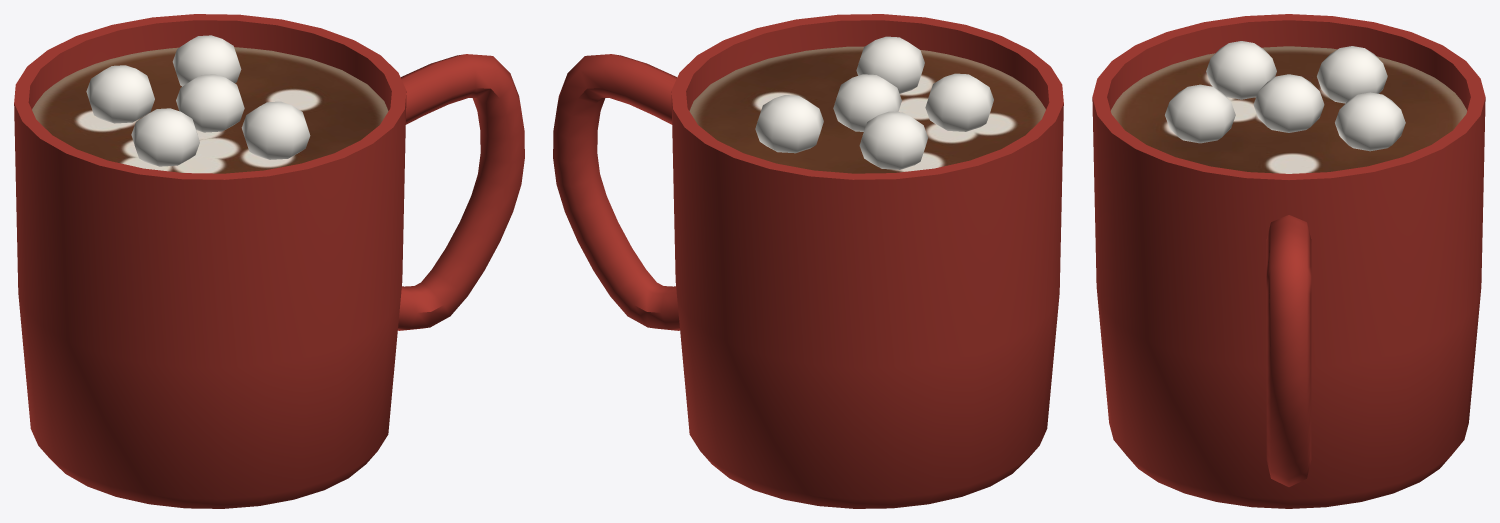
File: drink_hot_cocoa_mug.glb
3 views of the same model, side by side, from view 1: azimuth 30°, elevation 25°; view 2: azimuth 150°, elevation 25°; view 3: azimuth 270°, elevation 25° (orthographic).
Visible parts, largest first — view 1: drink_hot_cocoa_mug; view 2: drink_hot_cocoa_mug; view 3: drink_hot_cocoa_mug.
Part boxes in pixels (x1=…): drink_hot_cocoa_mug: x1=14, y1=14, x2=524, y2=508; drink_hot_cocoa_mug: x1=553, y1=14, x2=1063, y2=508; drink_hot_cocoa_mug: x1=1092, y1=14, x2=1485, y2=508.
Bounding box in the file's own units: 0.1333 × 0.095 × 0.094.
4 materials, 1 textured.
